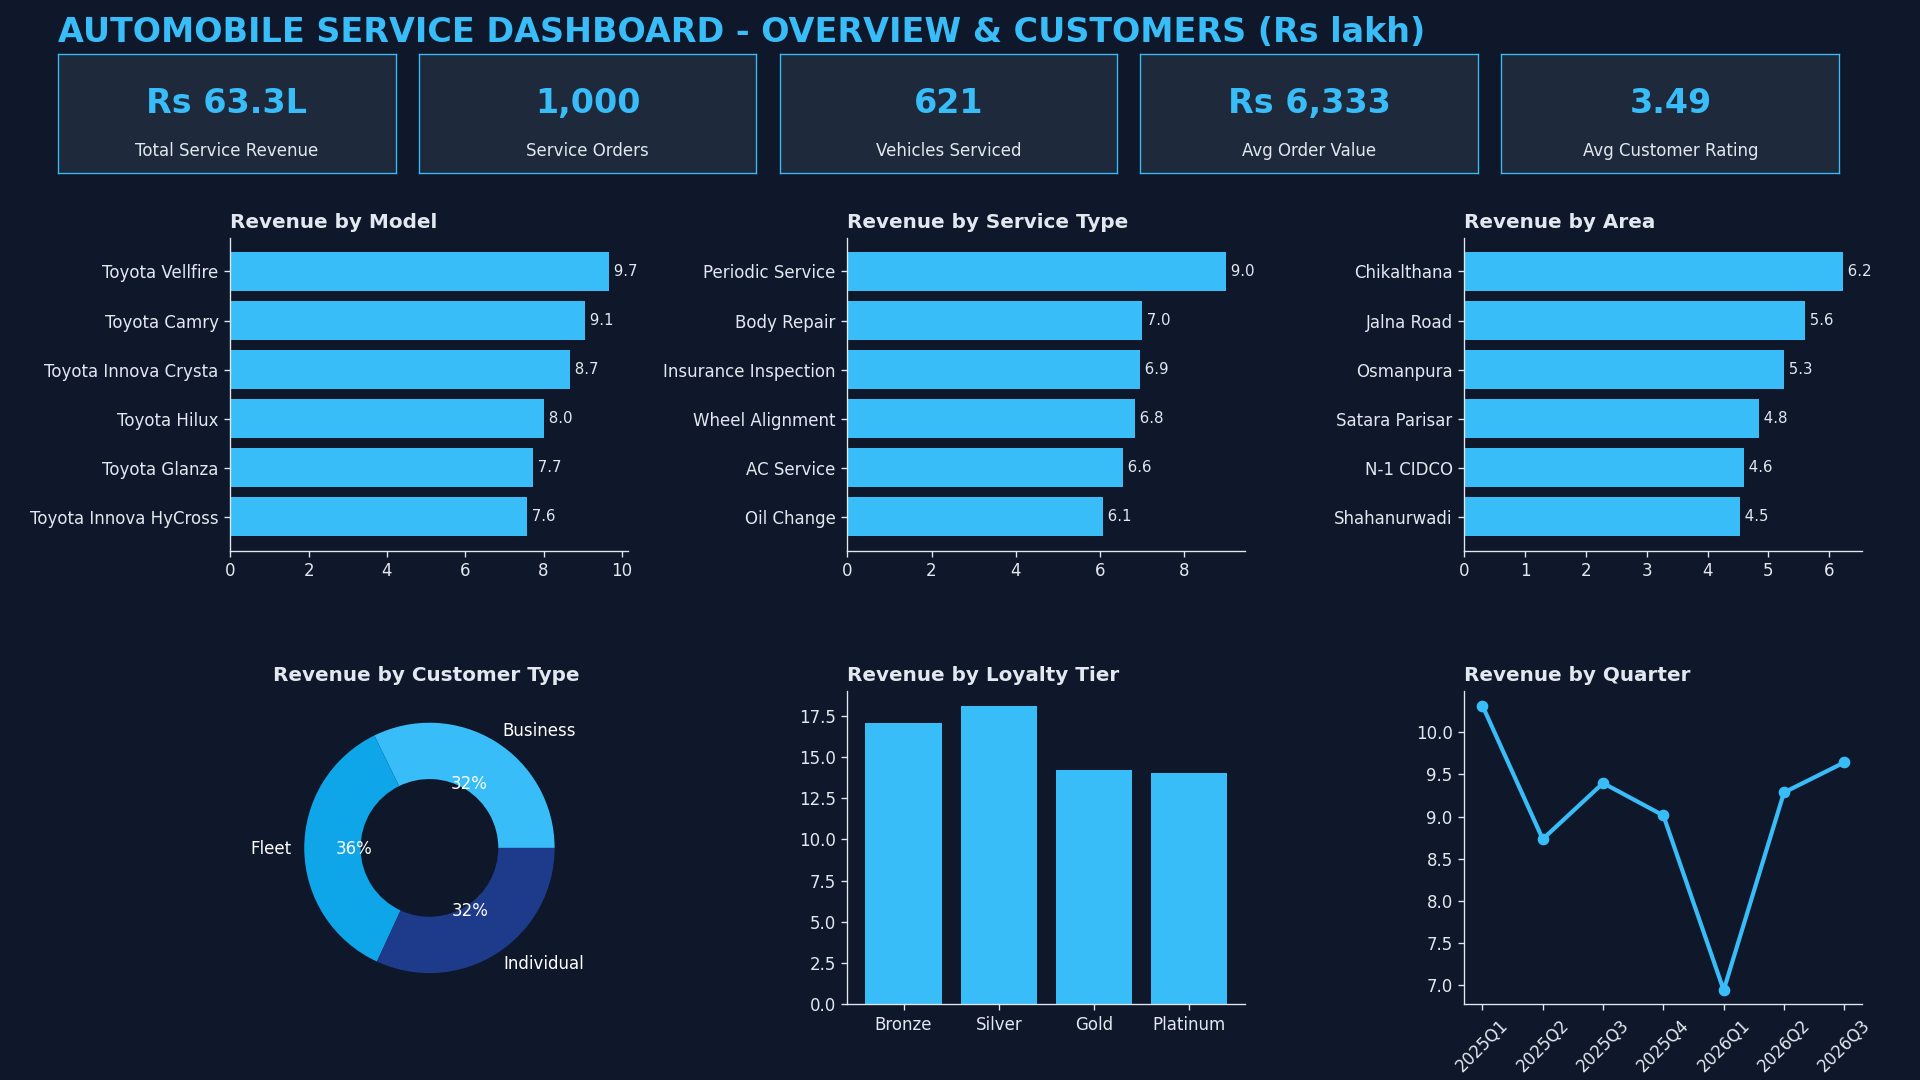

Layout of this report page (visuals, bound fields, positions):
{"tool":"powerbi","page":{"name":"Page 1","canvas":[1920,1080],"ordinal":0},"visuals":[{"type":"cardVisual","fields":{"Data":["Customer_Master.Average Customer Rating"]},"box":[1246,100,278,166],"z":1000},{"type":"cardVisual","fields":{"Data":["Service_Details.Total Service Revenue"]},"box":[318,100,278,166],"z":2000},{"type":"cardVisual","fields":{"Data":["Customer_Master.Vehicles Serviced"]},"box":[628,100,278,166],"z":3000},{"type":"cardVisual","fields":{"Data":["Customer_Master.Average Service Order Value"]},"box":[944,100,278,166],"z":4000},{"type":"lineChart","title":"Monthly Revenue Trend","fields":{"Category":["Customer_Master.Customer_Since.Variation.Date Hierarchy.Year","Customer_Master.Customer_Since.Variation.Date Hierarchy.Month"],"Y":["Service_Details.Total Service Revenue"]},"box":[0,288,1064,398],"z":5000},{"type":"donutChart","title":"Service Type Mix","fields":{"Category":["Service_Orders.Service_Type"],"Y":["Service_Details.Total Service Revenue"]},"box":[1116,308,692,378],"z":6000},{"type":"barChart","title":"Area-wise Revenue (Top 10)","fields":{"Category":["Customer_Master.Area"],"Y":["Service_Details.Total Service Revenue"]},"box":[990,702,930,378],"z":7000},{"type":"clusteredBarChart","title":"Top Vehicle Models by Revenue","fields":{"Category":["Vehicle_Master.Model"],"Y":["Service_Details.Total Service Revenue"]},"box":[0,702,944,378],"z":8000},{"type":"slicer","fields":{"Values":["Customer_Master.Customer_Since.Variation.Date Hierarchy.Year"]},"box":[1560,100,299.5,66.3],"z":9000},{"type":"slicer","fields":{"Values":["Customer_Master.Area"]},"box":[1560,178,300,66],"z":10000},{"type":"textbox","title":"Executive Overview","box":[8.2,0,1237.1,86.4],"z":10001},{"type":"cardVisual","fields":{"Data":["Customer_Master.Total Service Orders"]},"box":[8.2,100.9,278,166],"z":10002}]}

Visuals, with their boxes in screenshot pixels (x1, y1, x2, y2), scaled from the page's 1920x1080 canvas onto the 1920x1080 screenshot:
cardVisual - Customer_Master.Average Customer Rating: 1246,100,1524,266
cardVisual - Service_Details.Total Service Revenue: 318,100,596,266
cardVisual - Customer_Master.Vehicles Serviced: 628,100,906,266
cardVisual - Customer_Master.Average Service Order Value: 944,100,1222,266
"Monthly Revenue Trend" lineChart: 0,288,1064,686
"Service Type Mix" donutChart: 1116,308,1808,686
"Area-wise Revenue (Top 10)" barChart: 990,702,1919,1079
"Top Vehicle Models by Revenue" clusteredBarChart: 0,702,944,1079
slicer - Customer_Master.Customer_Since.Variation.Date Hierarchy.Year: 1560,100,1860,166
slicer - Customer_Master.Area: 1560,178,1860,244
"Executive Overview" textbox: 8,0,1245,86
cardVisual - Customer_Master.Total Service Orders: 8,101,286,267
